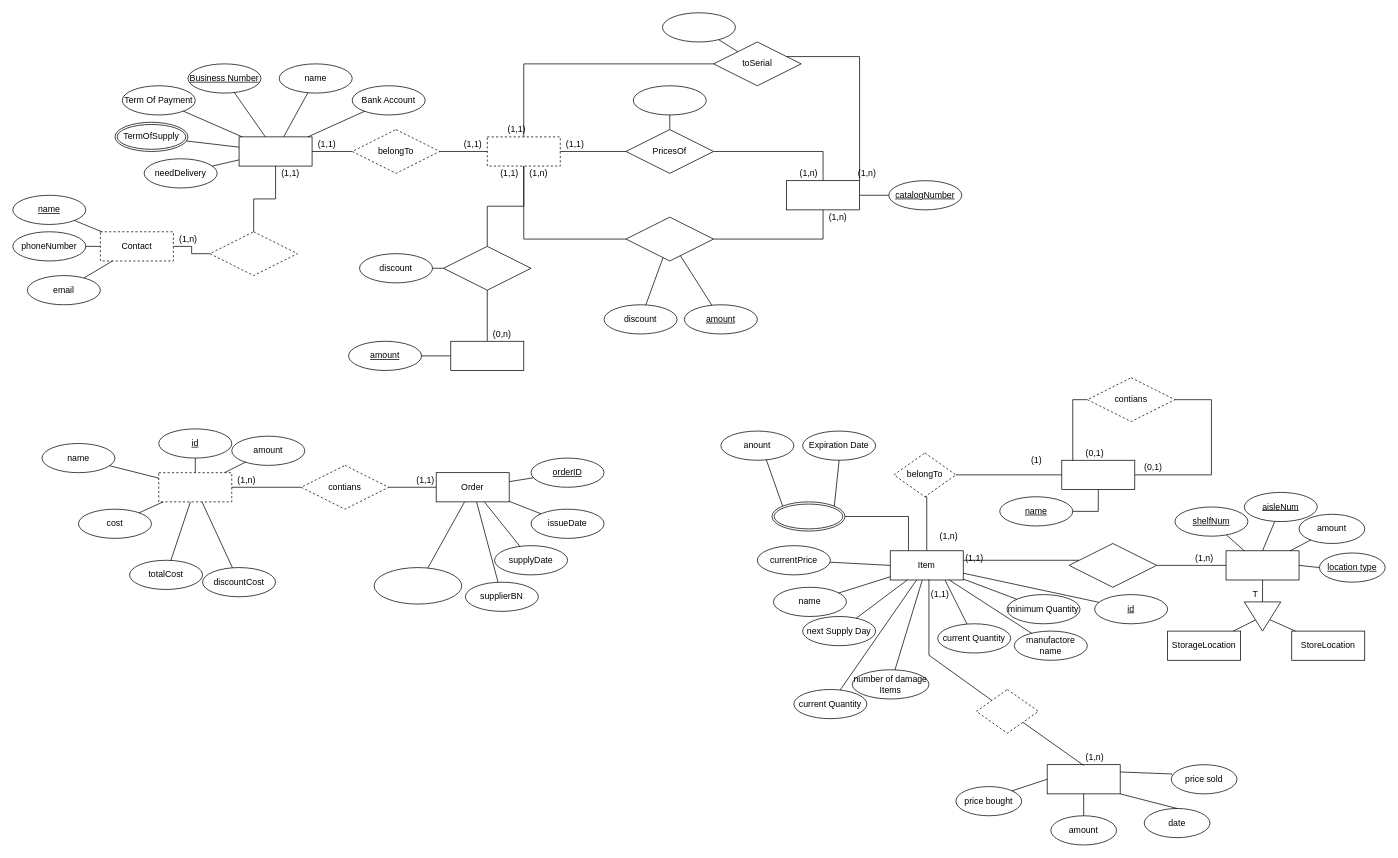
The diagram is 1398 pixels wide and 858 high, and some of its shapes have lost their labels. The shapes that lost their labels are listed below. From the top down, each one's box as (x1, y1, x2, y2) in pixels, then its label:
(662, 12, 735, 42): serialNumber
(633, 85, 706, 115): price
(238, 136, 312, 166): Supplier
(487, 136, 560, 166): Bill Of Quantities
(786, 180, 860, 210): itemDiscount
(209, 231, 297, 276): contact Of
(625, 216, 714, 261): discountFor
(443, 246, 531, 290): DicountFor
(450, 341, 524, 370): OrderDiscount
(158, 472, 232, 502): OrderItem
(1061, 460, 1135, 489): Category
(771, 501, 845, 531): ExpiredDate
(1068, 543, 1157, 587): located at
(1225, 550, 1299, 580): Location
(373, 567, 462, 604): total Price After Discount
(1244, 601, 1281, 631): isA
(976, 689, 1038, 733): has
(1046, 764, 1120, 794): Sales
